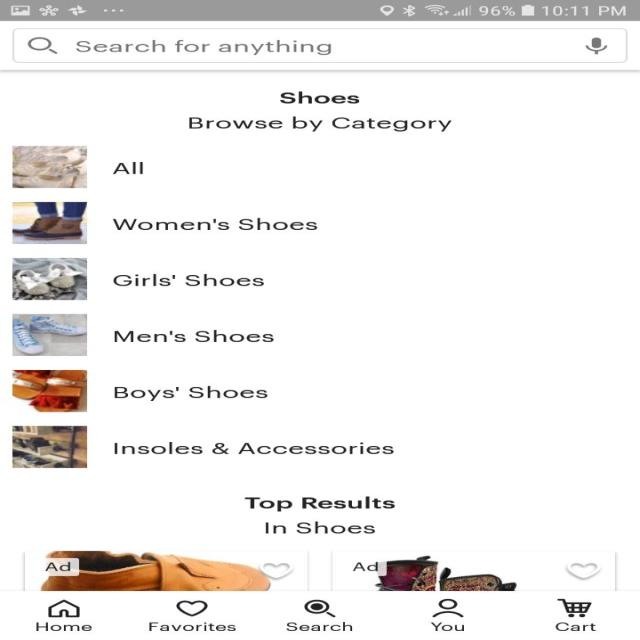EditText: (11, 28, 626, 63)
Icon: (556, 598, 592, 618), (258, 560, 294, 578), (565, 560, 600, 578), (47, 598, 80, 617), (431, 598, 464, 617), (303, 599, 336, 617), (175, 600, 208, 616), (28, 37, 58, 54), (584, 37, 607, 54)
Image: (332, 550, 616, 591), (24, 550, 308, 591), (12, 257, 88, 300), (12, 201, 88, 244), (12, 145, 88, 188), (12, 426, 88, 468), (12, 370, 88, 412), (12, 314, 88, 356)
Text: (188, 116, 452, 132), (114, 441, 394, 454), (76, 40, 332, 54), (243, 495, 394, 512), (111, 218, 318, 230), (114, 385, 268, 401), (112, 273, 264, 286), (114, 330, 274, 342), (265, 520, 375, 534), (279, 91, 359, 104), (148, 621, 235, 631), (285, 621, 353, 631), (36, 621, 92, 631), (554, 621, 596, 631), (112, 162, 143, 174), (429, 621, 464, 631), (351, 562, 377, 571), (44, 562, 70, 571)
